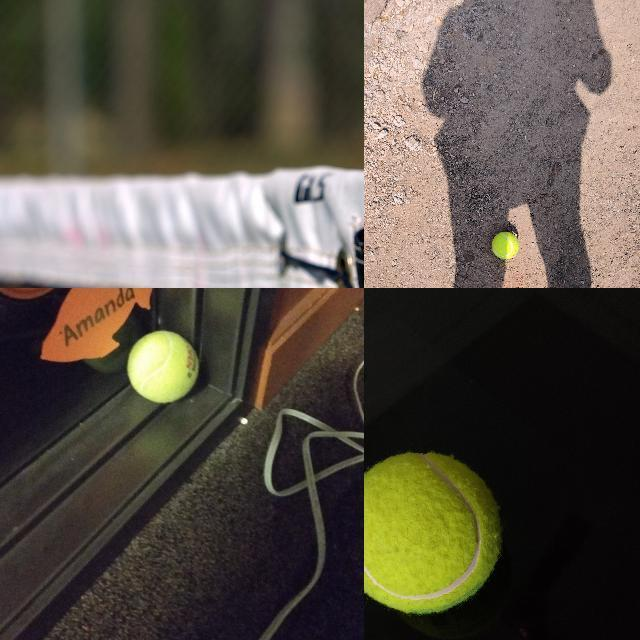tennis-ball: (364, 452, 501, 615), (126, 330, 200, 404), (492, 232, 519, 259)
